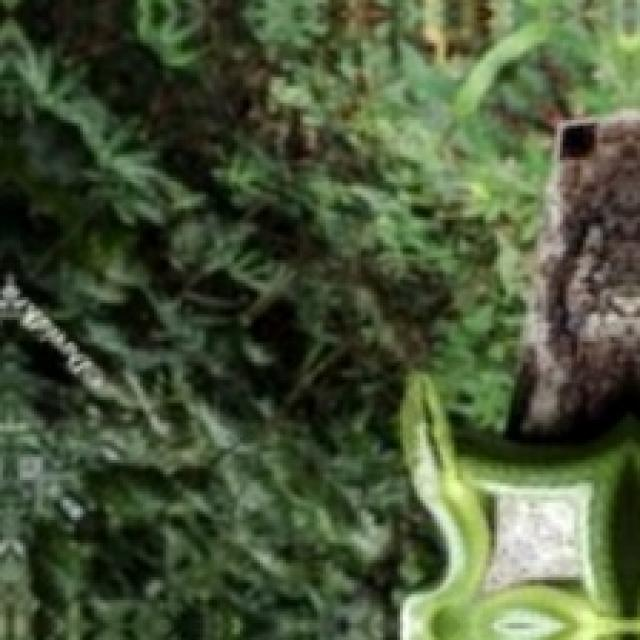red-tailed green ratsnake: (400, 371, 637, 637)
